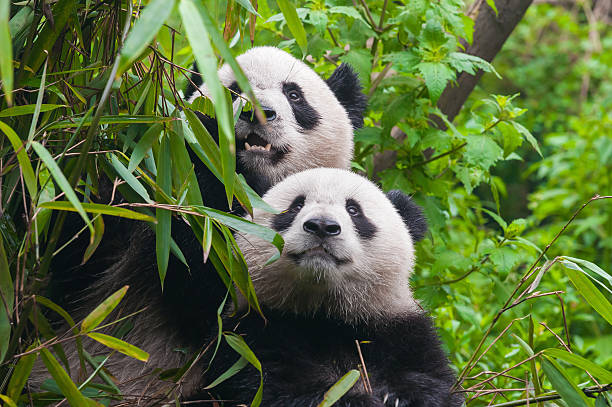panda: (213, 156, 444, 340), (177, 35, 379, 202)
